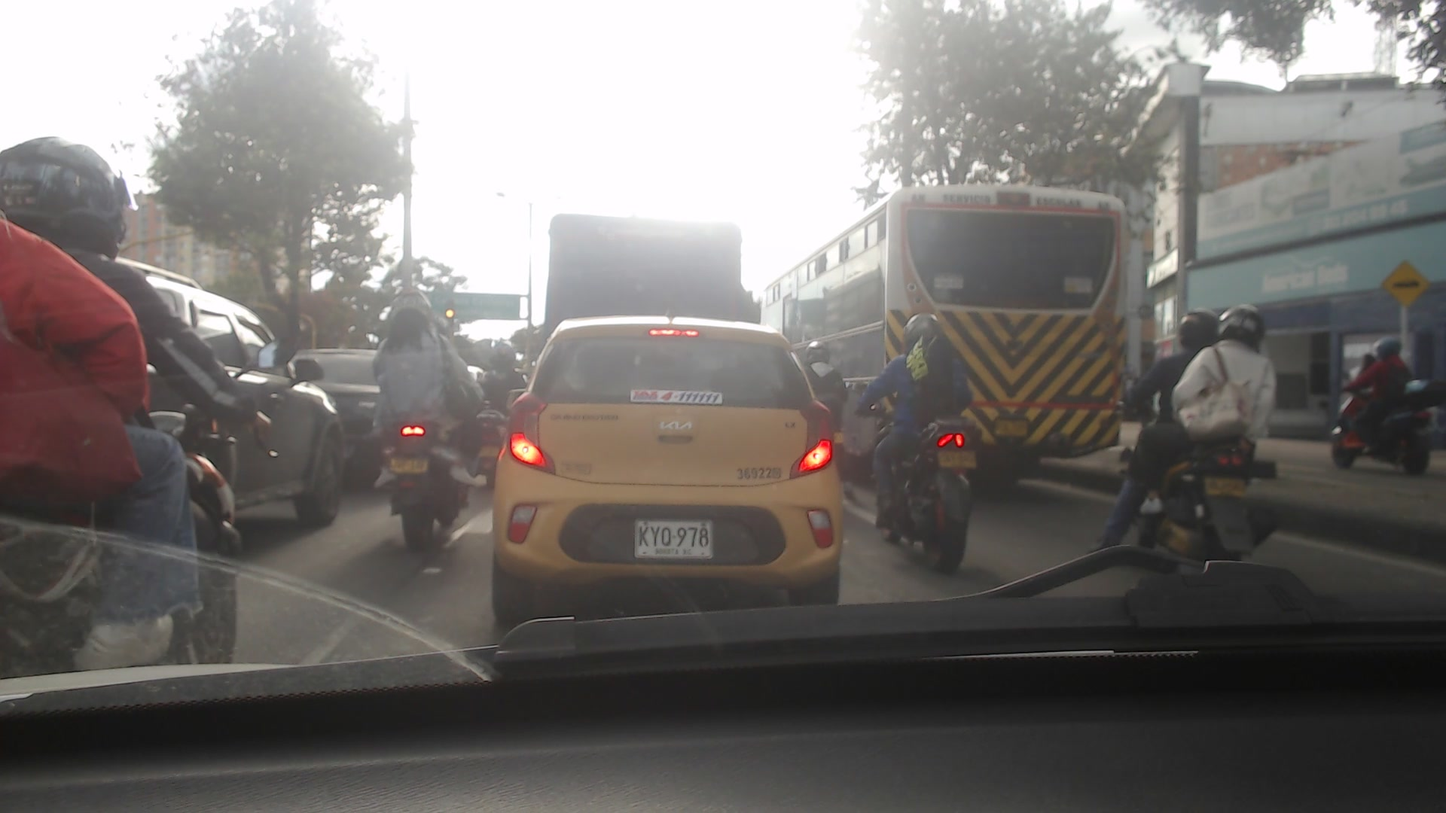bus: (743, 188, 1127, 478)
car: (496, 318, 840, 622), (76, 255, 349, 515), (283, 344, 401, 477)
motorcycle: (0, 399, 247, 666), (1084, 441, 1268, 572), (842, 424, 979, 577), (374, 419, 478, 548), (1321, 394, 1435, 473)
person: (0, 144, 179, 645), (363, 286, 483, 485), (856, 307, 976, 450), (1117, 306, 1217, 473), (1180, 298, 1275, 460), (1342, 335, 1419, 419), (806, 339, 848, 439), (478, 336, 524, 412)
truck: (536, 208, 747, 353)
